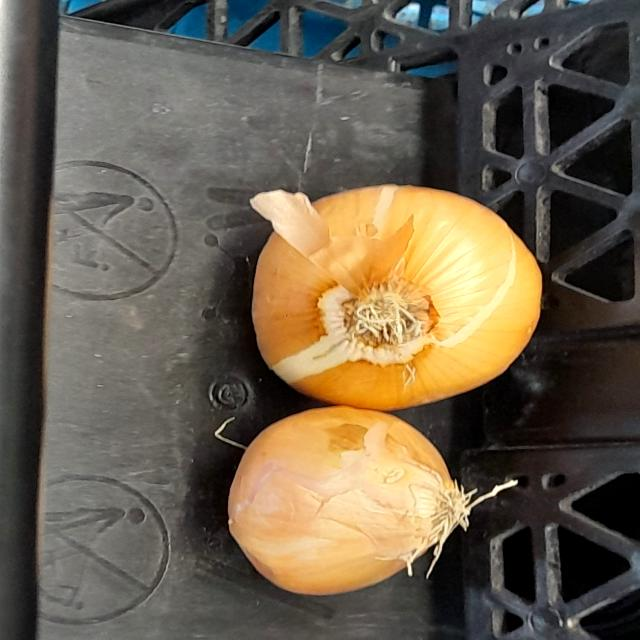onion: (229, 165, 566, 418), (189, 394, 522, 597)
